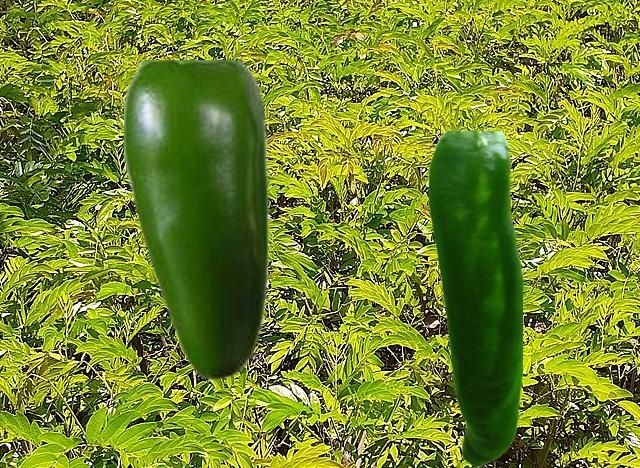green_chili: (124, 60, 268, 380), (428, 131, 521, 465)
